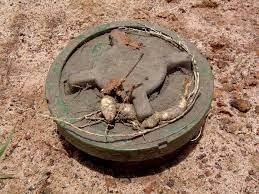pmn: (44, 19, 215, 167)
